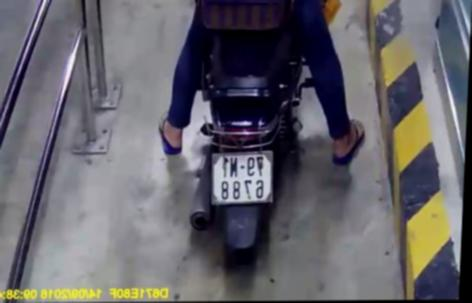License_Plate: (205, 149, 280, 214)
